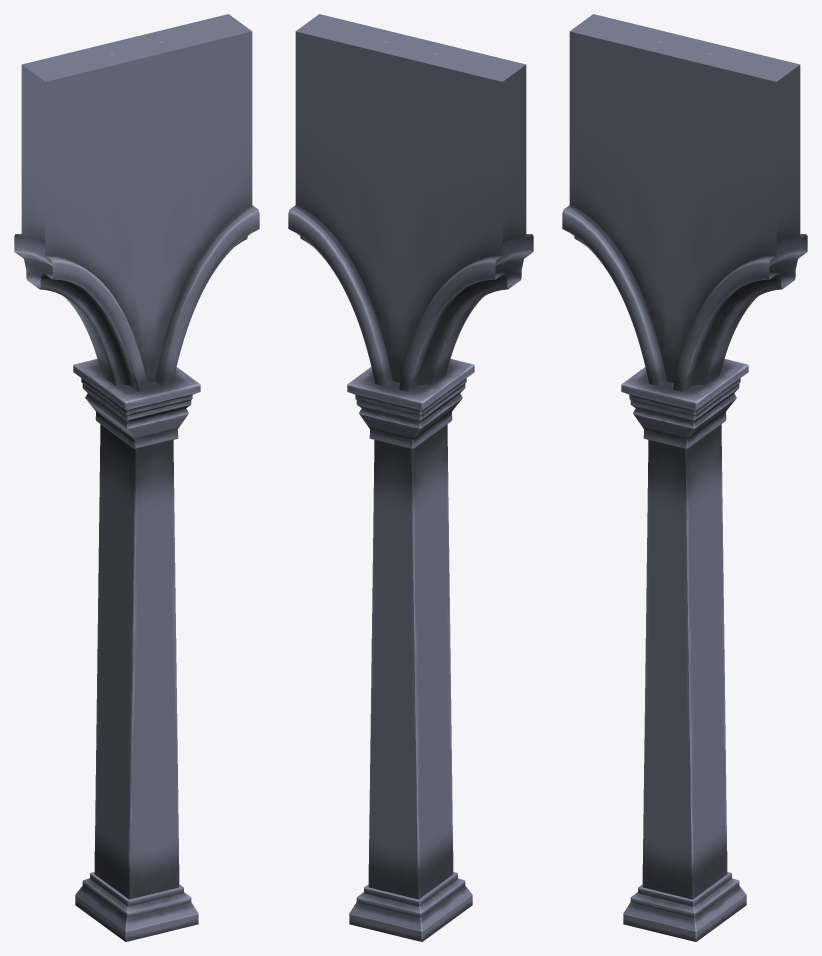
Rendered from BigArch1.fbx.
3 renders of one model, left to right at view 1: azimuth 30°, elevation 25°; view 2: azimuth 150°, elevation 25°; view 3: azimuth 330°, elevation 25°, orthographic.
Visible parts, largest first — view 1: Arch.011; view 2: Arch.011; view 3: Arch.011.
Boxes of the visible parts, bbox=[...] form: Arch.011: bbox=[14, 14, 259, 941]; Arch.011: bbox=[288, 14, 533, 941]; Arch.011: bbox=[562, 14, 807, 941].
Bounding box in the file's own units: 500 × 2000 × 220.
